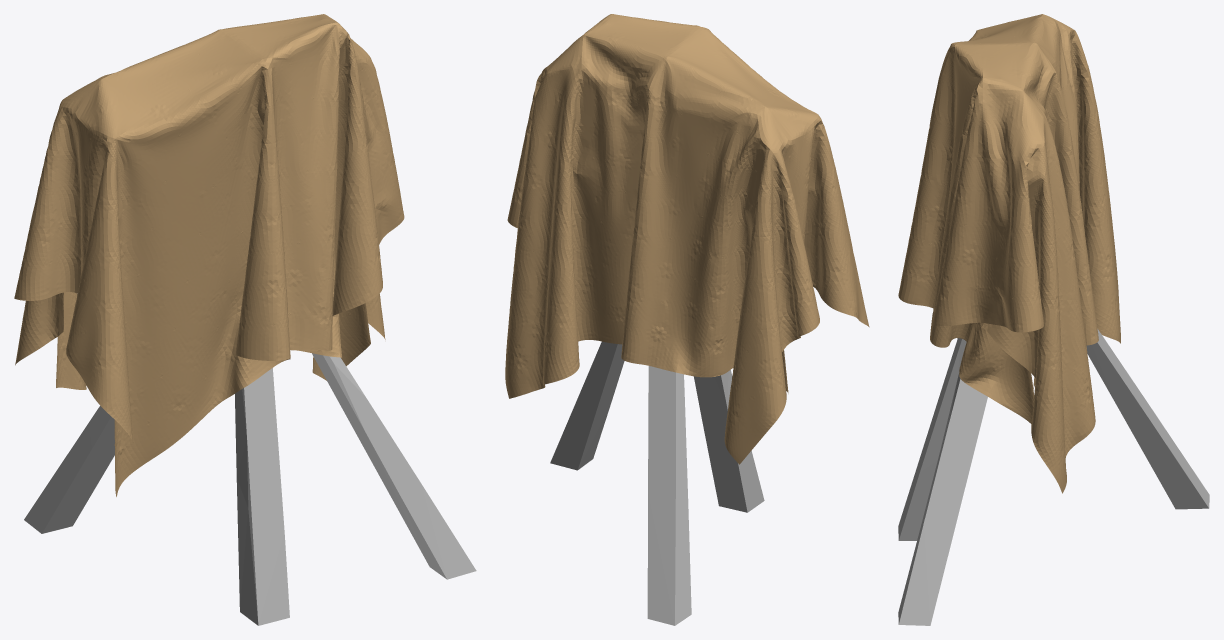
Rendered from level_4.glb.
The picture shows the model from 3 angles, left to right: view 1: azimuth 30°, elevation 25°; view 2: azimuth 150°, elevation 25°; view 3: azimuth 270°, elevation 25°; orthographic projection. The views are drawn at different scales.
Visible parts, largest first — view 1: world, object.obj; view 2: world, object.obj; view 3: world, object.obj.
Boxes of the visible parts, bbox=[...] form: world: bbox=[14, 14, 404, 496]; object.obj: bbox=[24, 353, 476, 625]; world: bbox=[505, 14, 869, 464]; object.obj: bbox=[550, 341, 764, 625]; world: bbox=[898, 14, 1120, 493]; object.obj: bbox=[898, 329, 1209, 625].
Bounding box in the file's own units: 0.291 × 0.407 × 0.2274.
